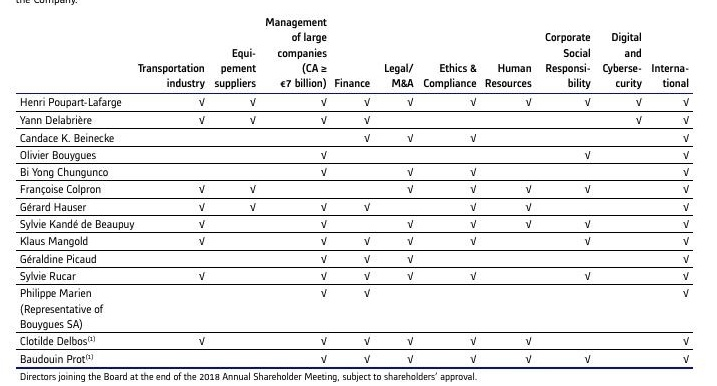table: (0, 0, 717, 386)
